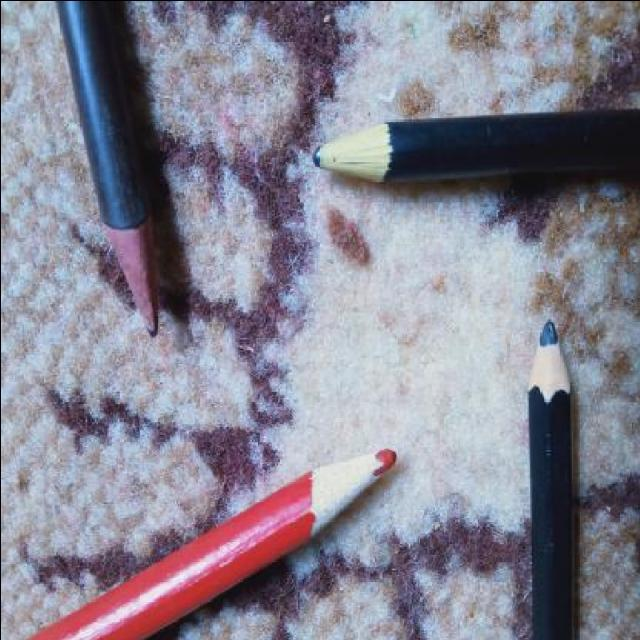pencil: (298, 438, 402, 544), (90, 208, 163, 348), (300, 112, 398, 190), (521, 306, 577, 408)
